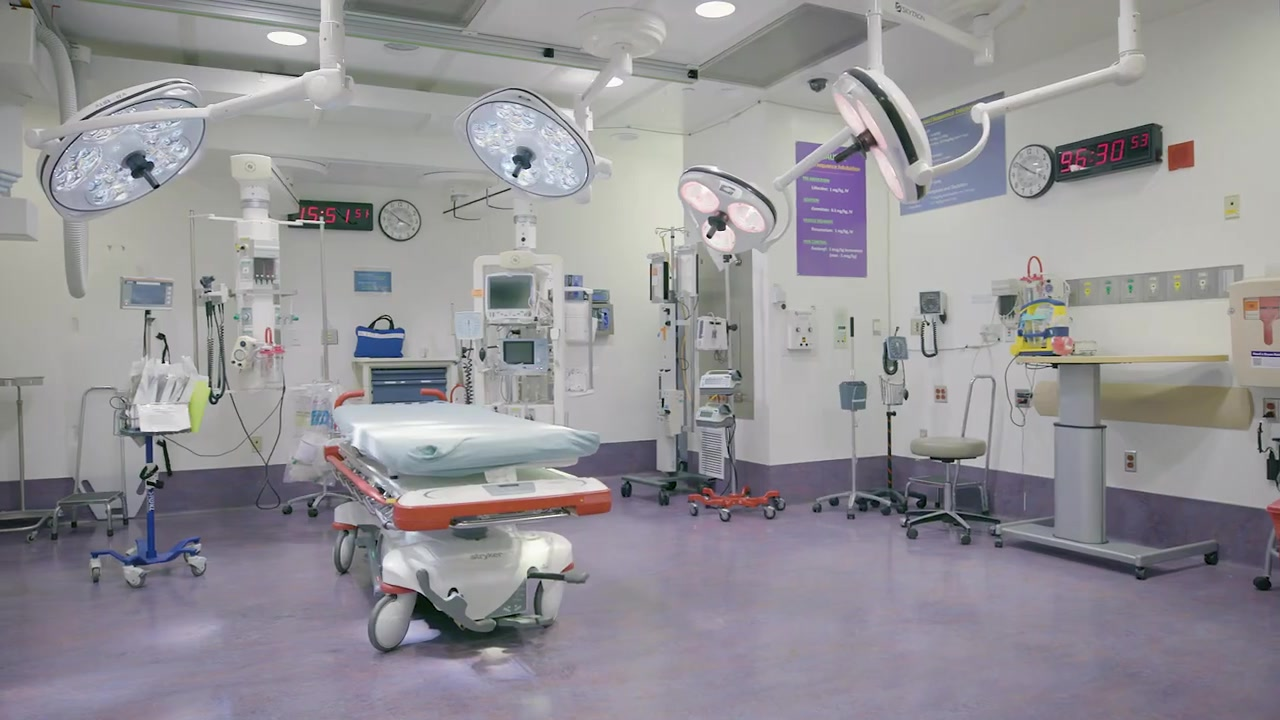bedrail: (323, 445, 402, 524)
bedside_monitor: (483, 272, 538, 328), (118, 274, 174, 313), (494, 339, 547, 376)
chair: (899, 436, 1002, 545)
dispenser: (585, 300, 615, 338), (564, 276, 582, 300)
hospital_bed: (322, 386, 610, 652)
iv_pole: (651, 220, 688, 308)
medical_drawer: (351, 355, 463, 406)
medical_waste_container: (1225, 277, 1280, 388)
overbed_table: (991, 345, 1229, 582)
surgical_light: (32, 74, 210, 223), (450, 83, 601, 202), (833, 64, 934, 204), (677, 164, 777, 255)
utility_cart: (1, 375, 64, 544)
